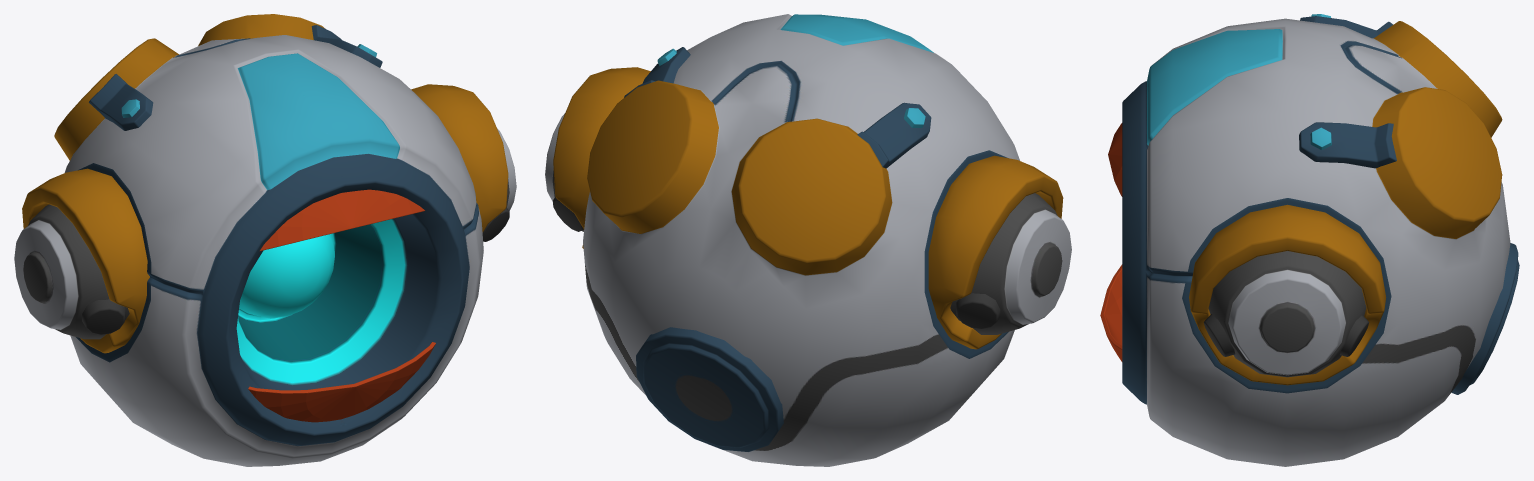
File: Body_qiuxingjijia01.FBX
3 views of the same model, side by side, from view 1: azimuth 30°, elevation 25°; view 2: azimuth 150°, elevation 25°; view 3: azimuth 270°, elevation 25° (orthographic). The views are drawn at different scales.
Parts seen in each view (by area): view 1: 1; view 2: 1; view 3: 1.
Part boxes in pixels (x1,y1,x2,y2): 1: (14, 14, 516, 466); 1: (545, 14, 1071, 466); 1: (1100, 14, 1519, 466).
Size of the model in its own units: 3.86 by 3.16 by 2.94.
Materials: 1 (1 with a texture image).
